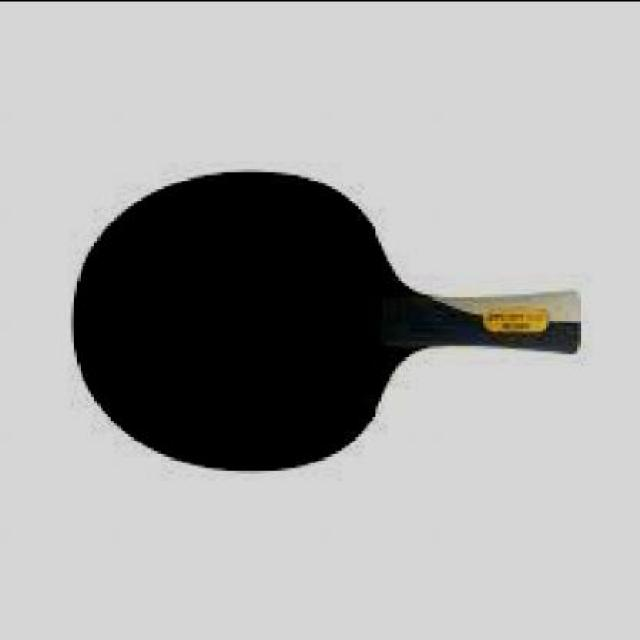table_tennis_racket: (60, 159, 408, 475)
